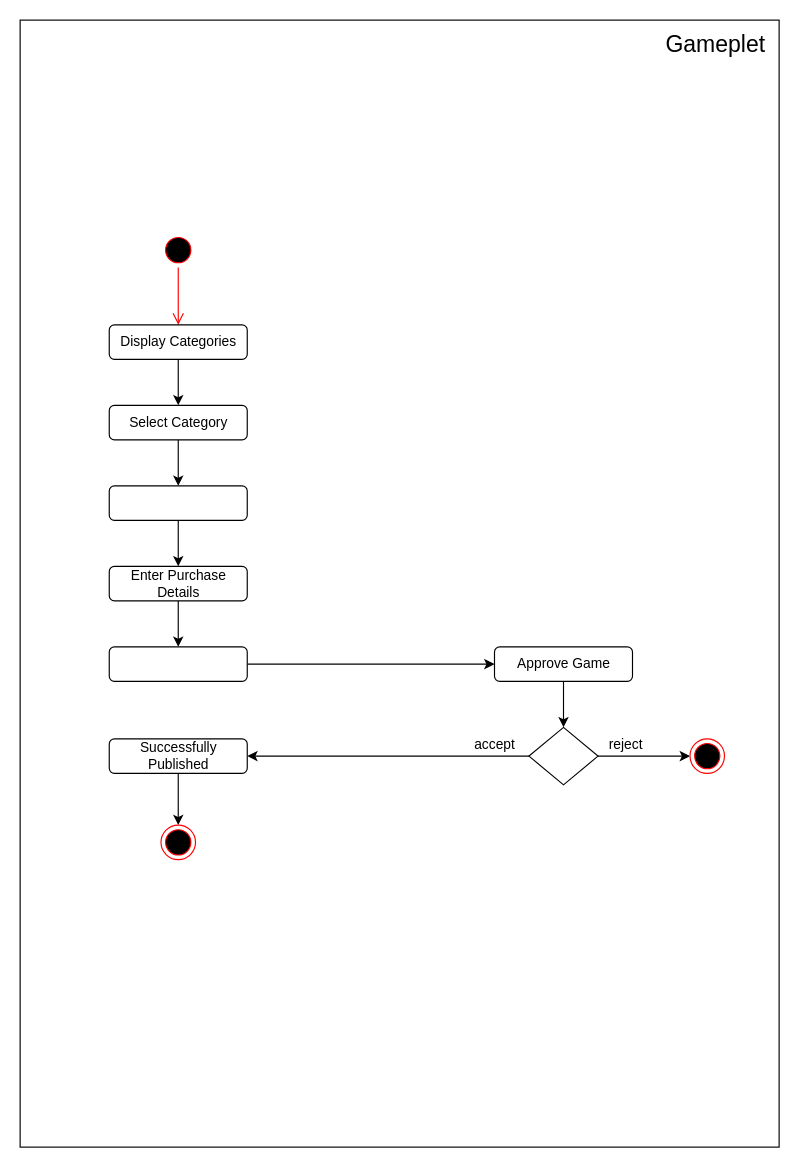
Image size: 799x1167. Some labels were removed from this diagram. The box of each missing label's shape, as (x1, y1, x2, y2) in pixels:
Confirm Publish: (108, 646, 247, 681)
Enter Game Profile Details: (108, 485, 247, 520)
